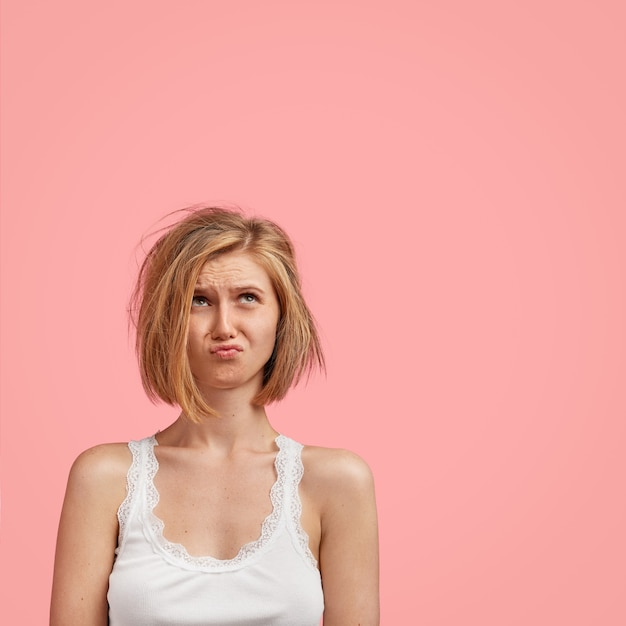young: (131, 203, 324, 415)
